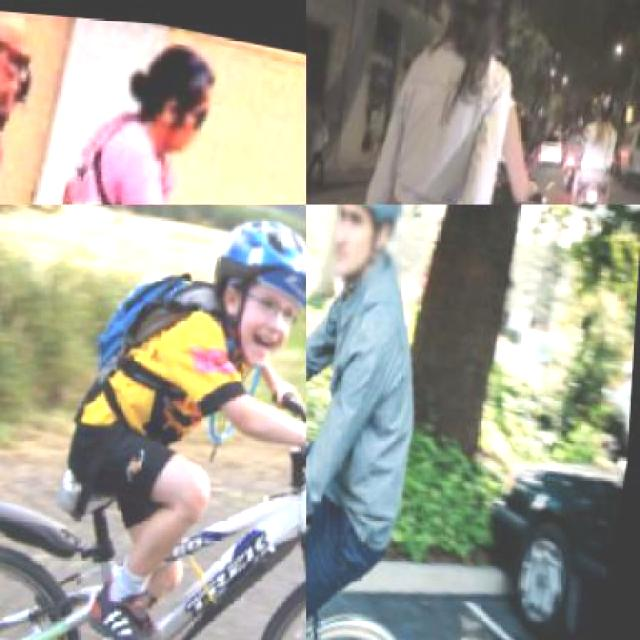With Helmet: (200, 205, 305, 372), (312, 205, 428, 292), (445, 0, 540, 54), (598, 78, 620, 112)
Without Helmet: (112, 28, 222, 158), (0, 3, 43, 111)
